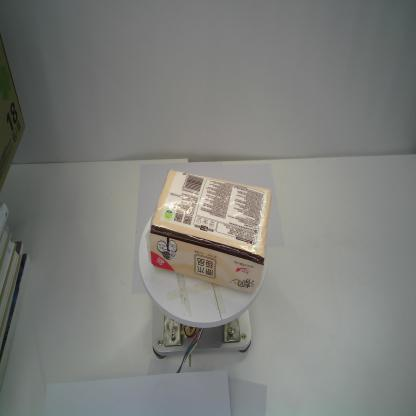Tissue: (145, 168, 274, 295)
